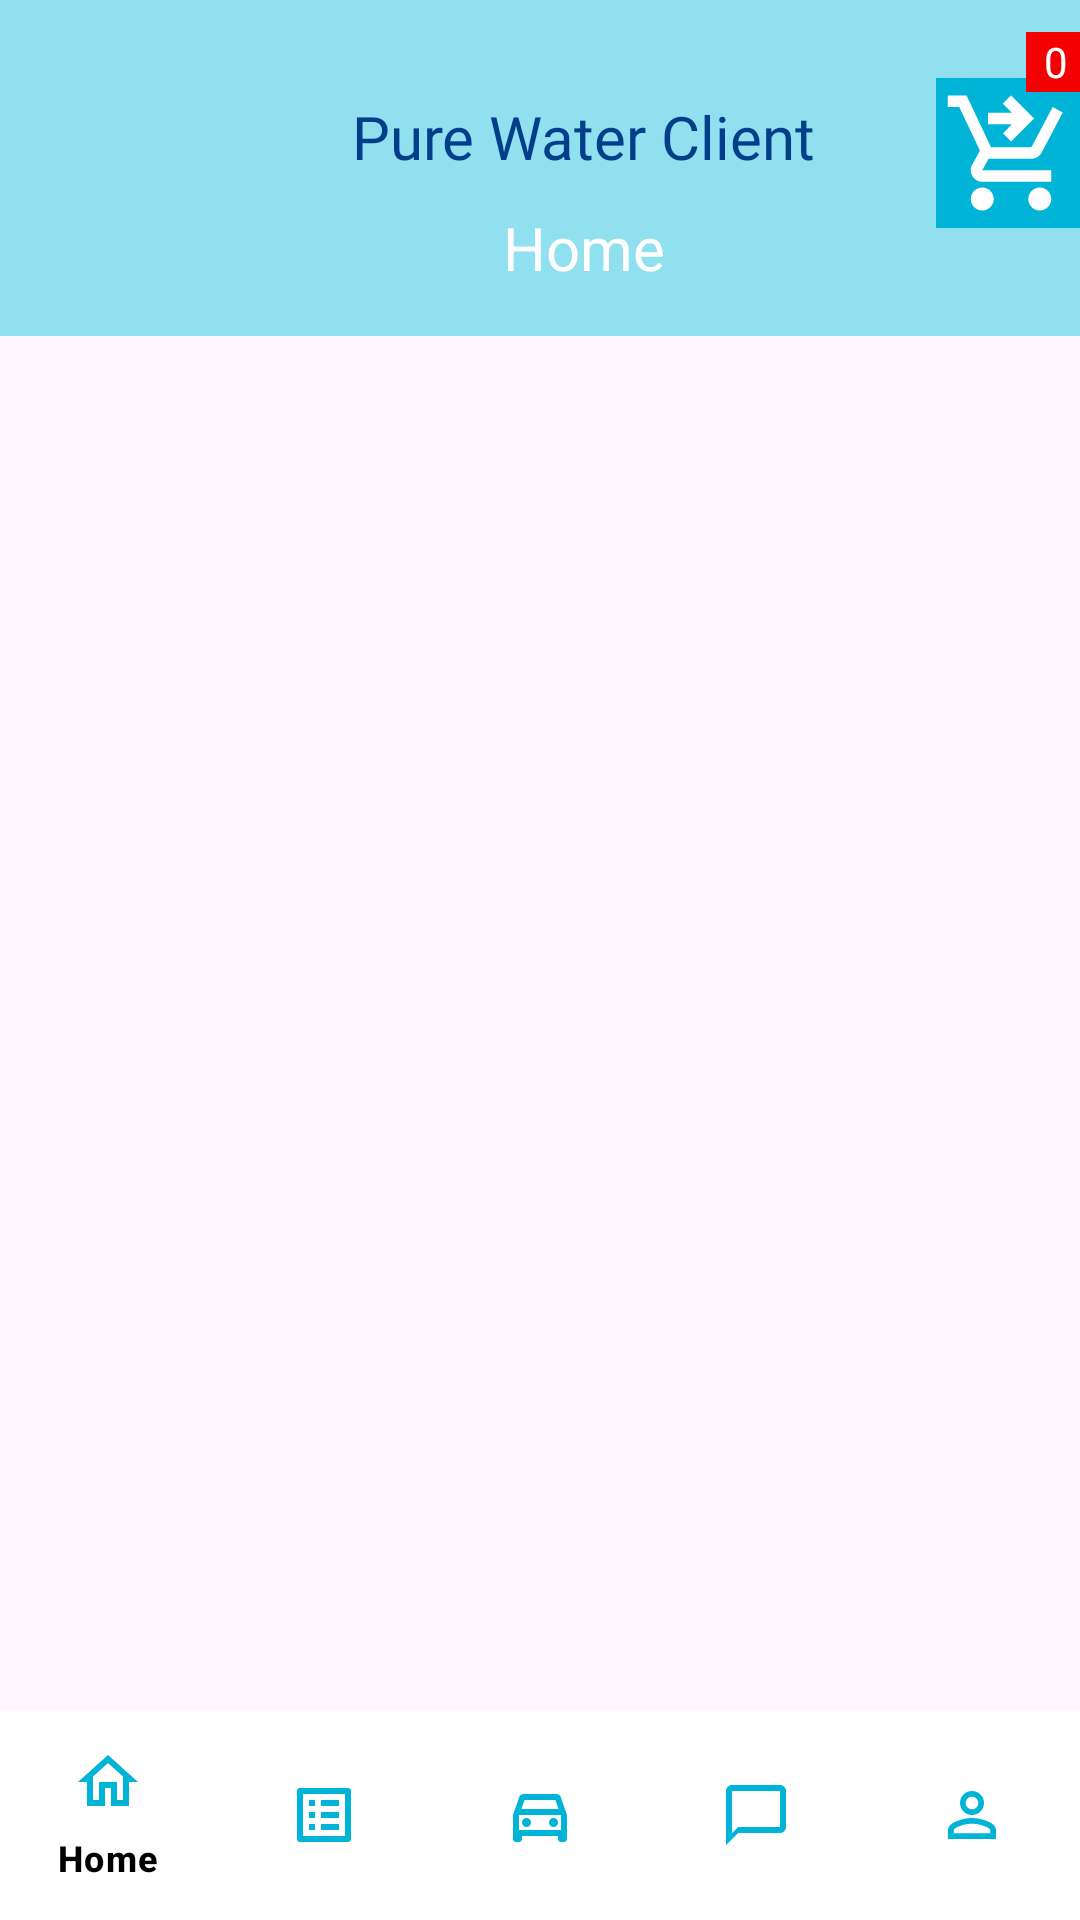

Screen size 1080px x 1920px. Icon name, then its box in pixels as bbox=(x1, y1, x2, y2):
shopping cart checkout: bbox=(936, 78, 1080, 228)
